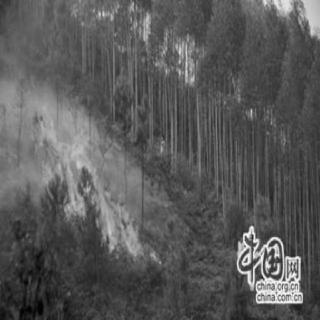Fire: (22, 100, 180, 264)
